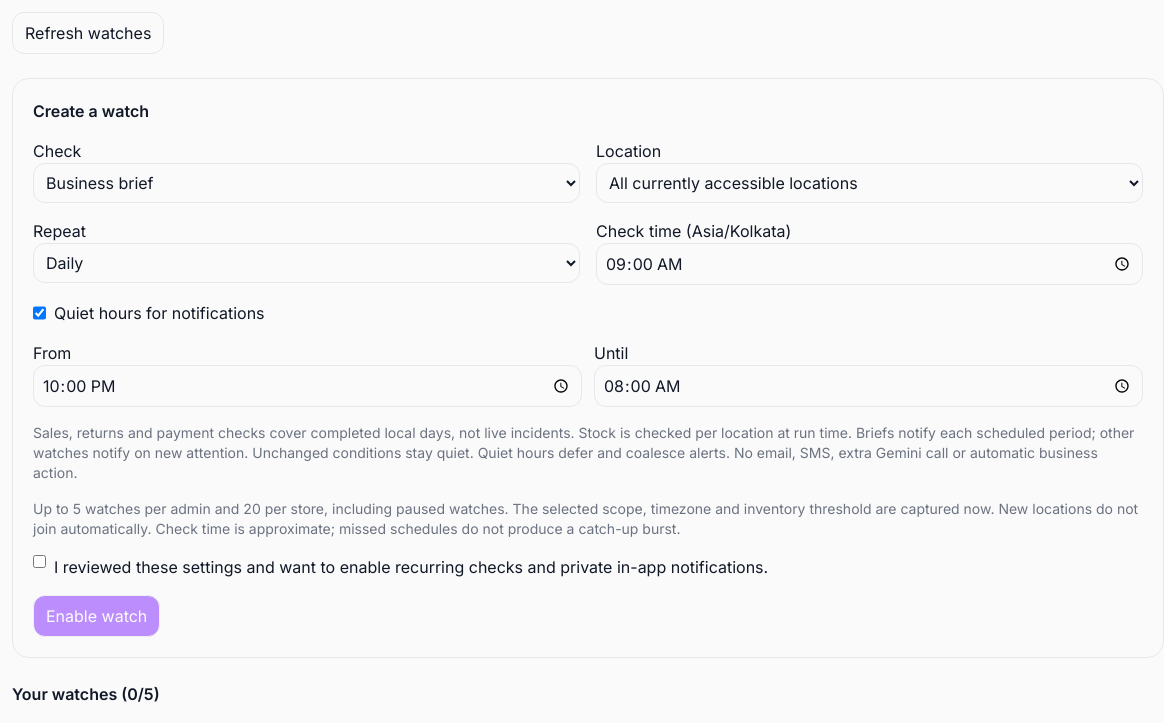
Test: human watch controls › supports weekly timing and no quiet hours
The width and height of the screenshot is (1164, 723).
expect the button "Enable watch" is shown: met, box [33,595,160,637]
Step 1. Select "Weekly" in the dropdown labelled "Repeat" → (306, 263), box [33,243,580,283]
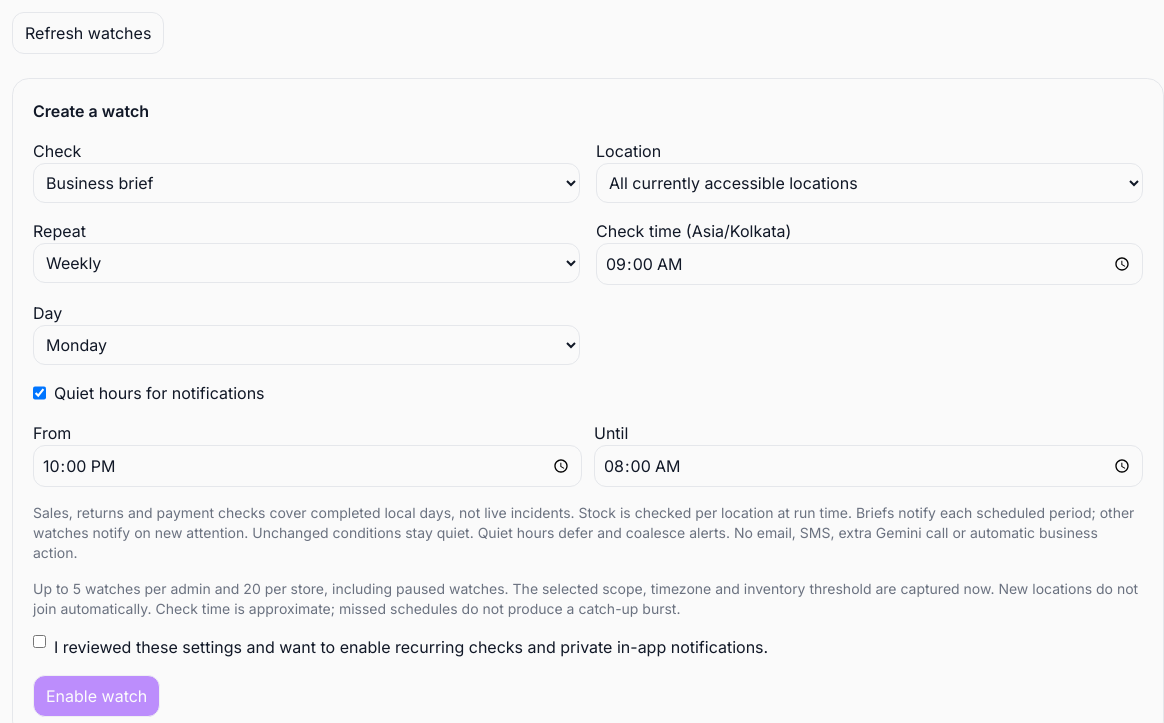
expect the dropdown labelled "Day" shows "Monday": met, box [33,325,580,365]
Step 2. Click the checkbox labelled "Quiet hours for notifications" → (40, 393), box [33,381,46,405]
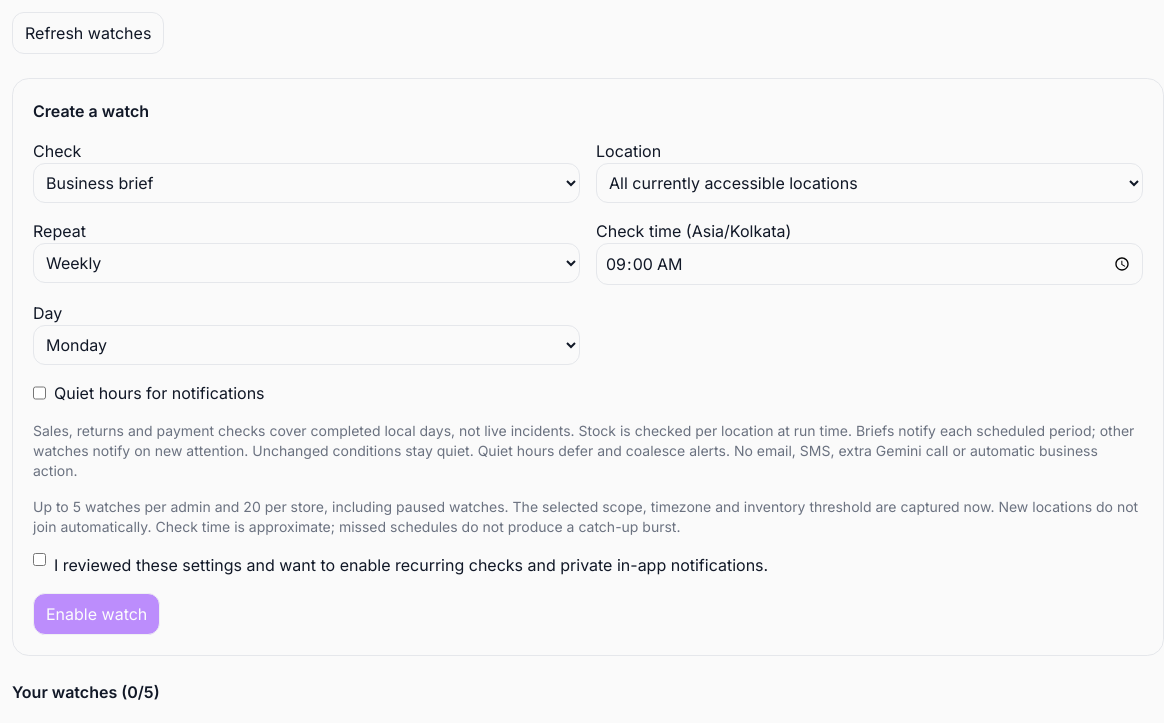
expect the label labelled "From" is gone: met
